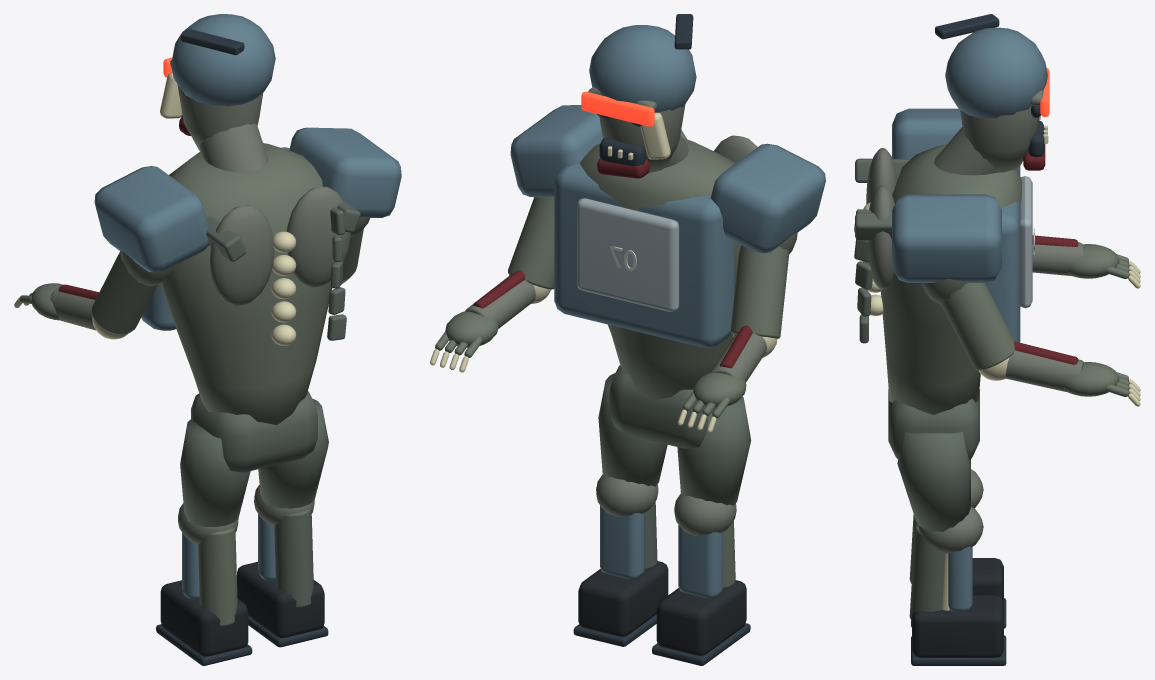
File: 12_zombie_armored.glb
3 views of the same model, side by side, from view 1: azimuth 30°, elevation 25°; view 2: azimuth 150°, elevation 25°; view 3: azimuth 270°, elevation 25° (orthographic). The views are drawn at different scales.
Visible parts, largest first — view 1: Ribcage, Breastplate, Scapula, Torn trousers, Thigh, Combat boot, Combat boot.001, Deltoid, Thigh.001, Tibia, Tibia.001, Ragged harness (+10 smaller); view 2: Breastplate, Ribcage, Trauma plate, Armored shin, Thigh, Combat boot, Combat boot.001, Deltoid, Torn trousers, Thigh.001, Scapula, Deltoid.001 (+16 smaller); view 3: Breastplate, Ribcage, Scapula, Thigh.001, Combat boot.001, Deltoid.001, Torn trousers, Ragged harness, Tibia.001, Forearm.001, Hand.001, Trauma plate (+9 smaller).
Part boxes in pixels (x1,y1,x2,y2): Ribcage: (161, 143, 332, 425); Breastplate: (94, 14, 401, 330); Scapula: (170, 60, 350, 305); Torn trousers: (191, 391, 317, 472); Thigh: (180, 418, 250, 527); Combat boot: (160, 580, 248, 656); Combat boot.001: (237, 561, 324, 637); Deltoid: (92, 250, 174, 334); Thigh.001: (258, 398, 328, 508); Tibia: (198, 528, 237, 626); Tibia.001: (274, 509, 313, 607); Ragged harness: (206, 200, 360, 340); Breastplate: (510, 25, 825, 347); Ribcage: (580, 138, 741, 400); Trauma plate: (577, 198, 679, 311); Armored shin: (600, 505, 722, 598); Thigh: (677, 396, 751, 505); Combat boot: (656, 580, 746, 655); Combat boot.001: (578, 561, 668, 636); Deltoid: (730, 232, 797, 338); Torn trousers: (609, 365, 715, 448); Thigh.001: (598, 373, 667, 486); Scapula: (588, 87, 757, 172); Deltoid.001: (508, 197, 554, 289); Breastplate: (892, 27, 1047, 342); Ribcage: (881, 144, 1022, 414); Scapula: (866, 90, 1043, 289); Thigh.001: (897, 432, 970, 531); Combat boot.001: (912, 595, 1003, 657); Deltoid.001: (921, 279, 1015, 370); Torn trousers: (888, 389, 979, 459); Ragged harness: (854, 158, 910, 343); Tibia.001: (909, 524, 944, 620); Forearm.001: (1005, 350, 1083, 392); Hand.001: (1063, 362, 1128, 396); Trauma plate: (1020, 176, 1032, 308).
Size of the model in its own units: 0.894 by 1.81 by 0.7805.
